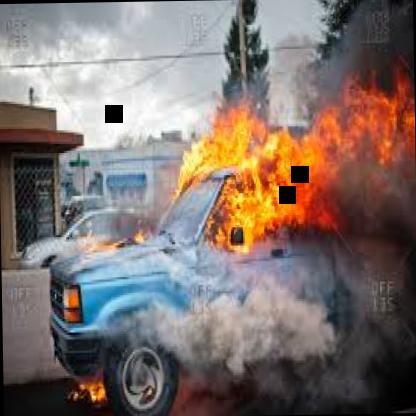fire: (169, 108, 416, 362)
